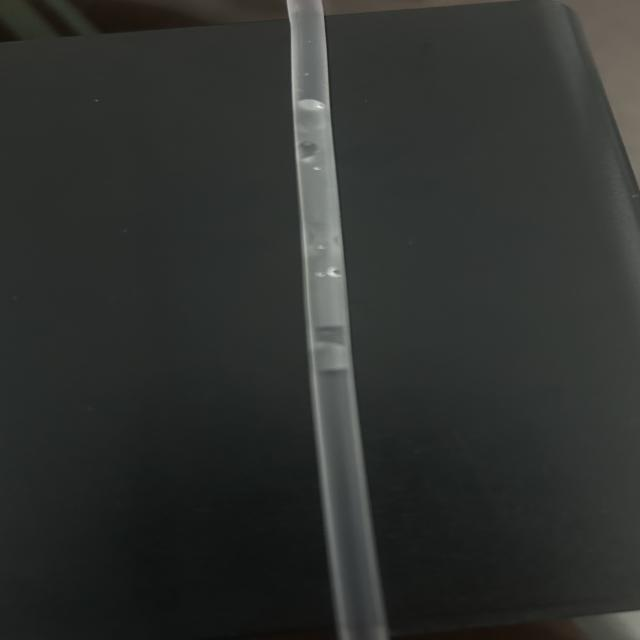bubble: (302, 335, 372, 376), (295, 95, 356, 118), (295, 138, 321, 167), (298, 74, 328, 89), (323, 263, 344, 284)
